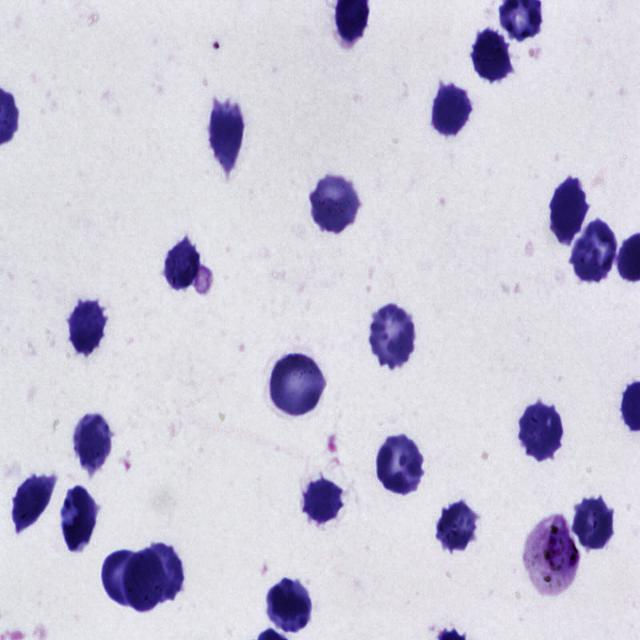red blood cell: (268, 352, 324, 418), (367, 303, 415, 372), (572, 218, 619, 284), (374, 433, 424, 495), (307, 175, 358, 234), (210, 97, 248, 172), (125, 548, 167, 614), (520, 399, 564, 459), (143, 541, 186, 600), (62, 484, 100, 550), (266, 578, 312, 632), (551, 176, 589, 241), (572, 496, 616, 552), (436, 498, 479, 553), (14, 471, 52, 533), (471, 28, 514, 82), (302, 475, 346, 526), (431, 83, 473, 136), (74, 412, 112, 470), (164, 234, 203, 290), (68, 300, 106, 357), (104, 549, 140, 604)
schizont: (524, 514, 580, 594)
